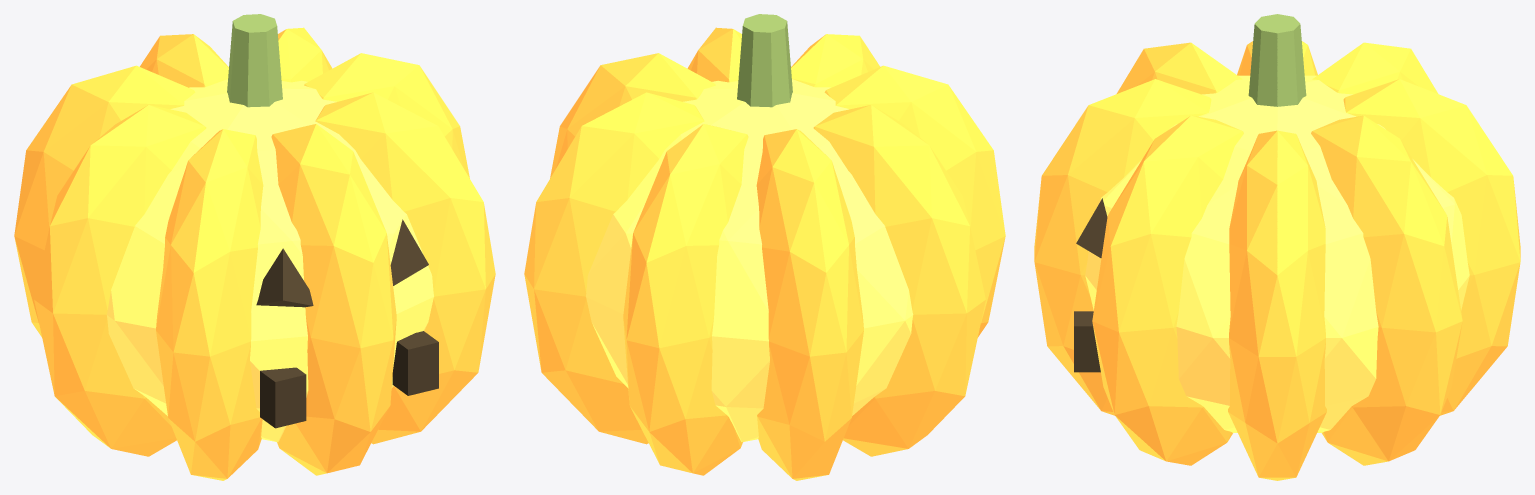
Rendered from halloween_pumpkin.glb.
The picture shows the model from 3 angles, left to right: view 1: azimuth 30°, elevation 25°; view 2: azimuth 150°, elevation 25°; view 3: azimuth 270°, elevation 25°; orthographic projection.
Parts seen in each view (by area): view 1: Pumpkin; view 2: Pumpkin; view 3: Pumpkin.
Part boxes in pixels (x1,y1,x2,y2): Pumpkin: [14, 14, 495, 480]; Pumpkin: [524, 14, 1005, 480]; Pumpkin: [1034, 14, 1520, 480].
Bounding box in the file's own units: 1.91 × 1.76 × 1.91.
